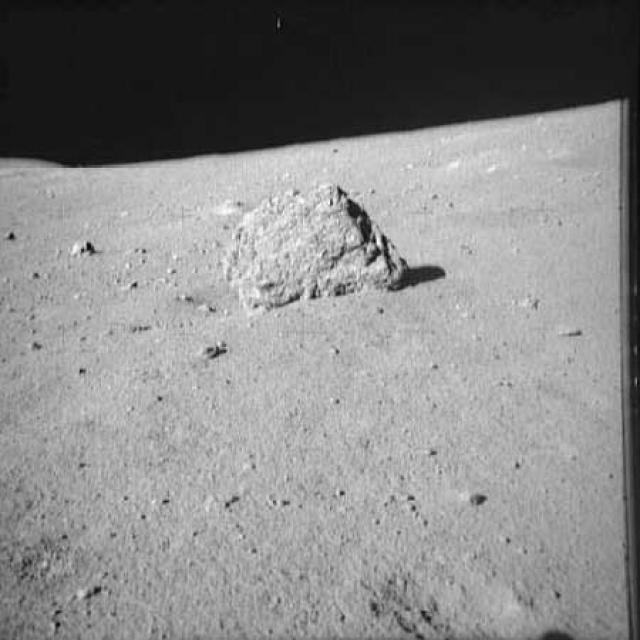rock: (198, 181, 416, 318), (62, 237, 109, 263), (76, 574, 108, 606), (196, 342, 226, 365), (202, 491, 228, 516), (555, 322, 587, 342), (456, 490, 490, 507), (522, 290, 542, 314), (20, 340, 48, 357), (119, 278, 148, 294), (200, 297, 215, 315), (0, 228, 19, 242)
